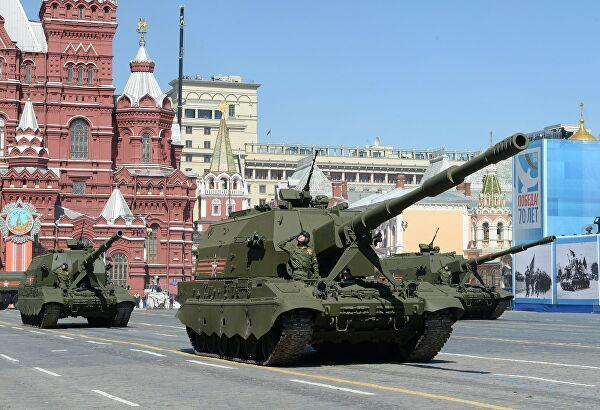sau: (165, 130, 551, 375), (383, 230, 571, 332), (15, 227, 143, 333)
